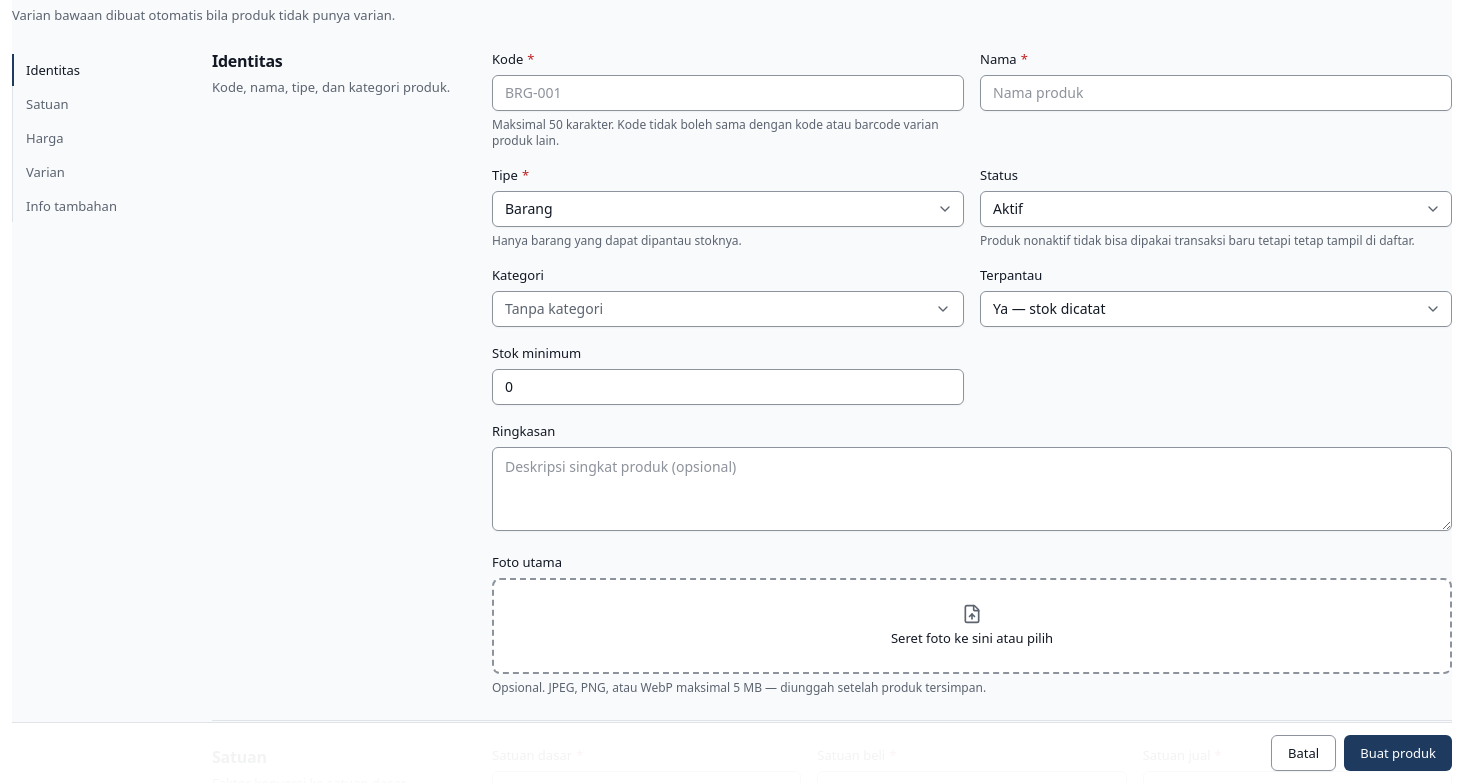
form tambah produk — inti › kode duplikat dari server: pesan tampil dan pengguna tetap di form dengan isian utuh
The image size is (1464, 783).
Type "GULA-1" into the field labelled "Kode *". click: (728, 92)
box: [492,74,964,110]
Type "Gula Pasir" into the field labelled "Nama *". click: (1216, 92)
box: [980,74,1452,110]
(page scrolled)
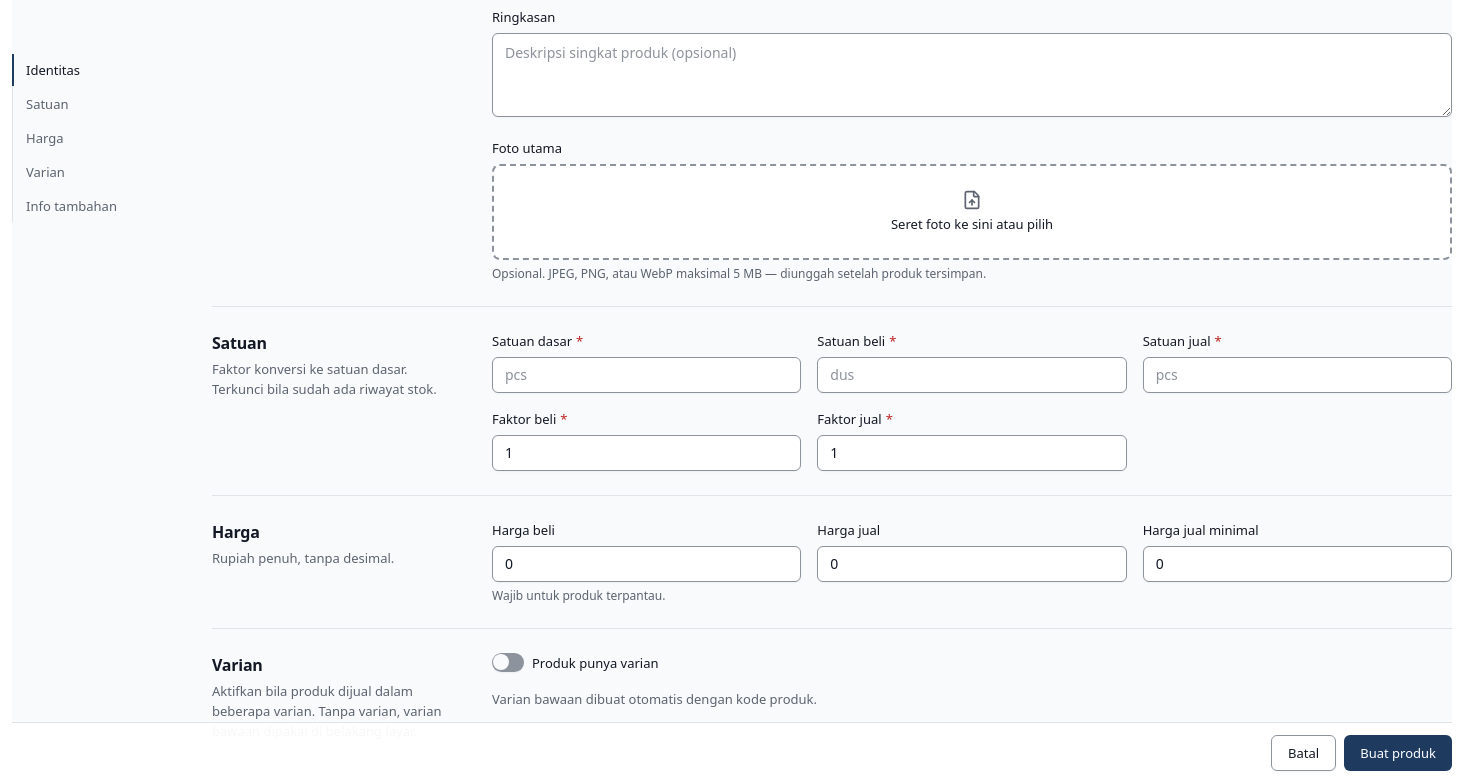
Type "kg" into the field labelled "Satuan dasar *". click: (647, 374)
box: [492,356,801,392]
Type "karung" into the field labelled "Satuan beli *". click: (972, 374)
box: [817,356,1127,392]
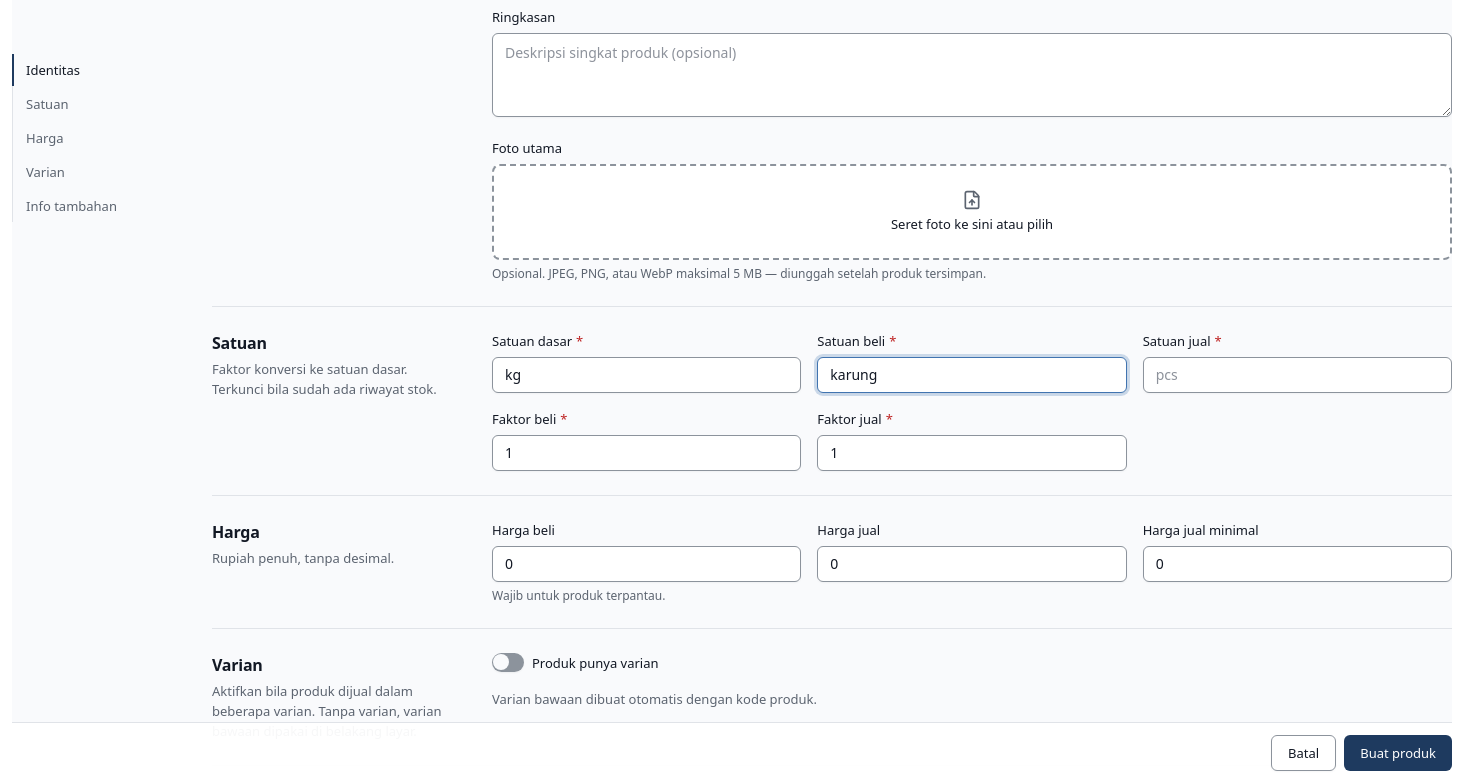
Type "kg" into the field labelled "Satuan jual *". click: (1297, 374)
box: [1143,356,1452,392]
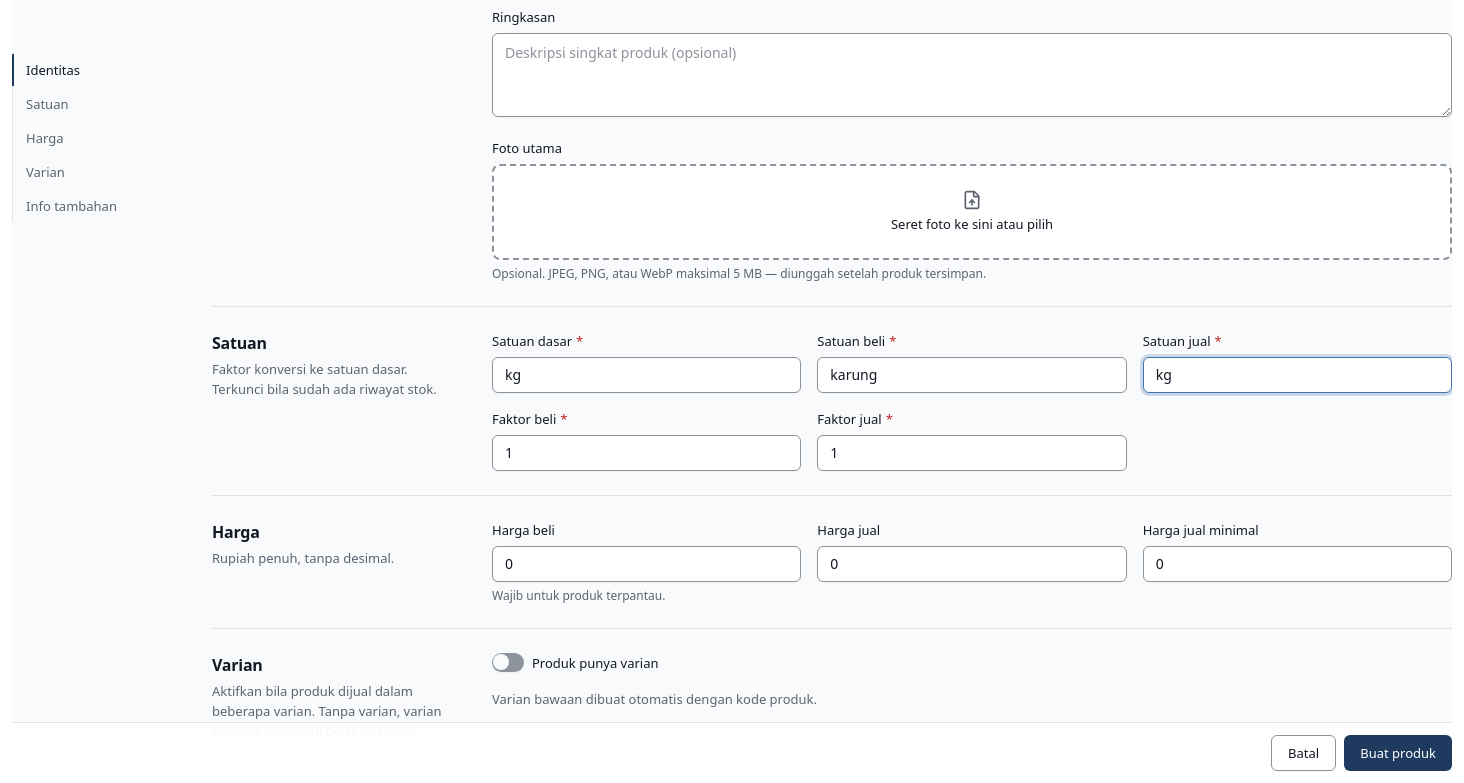
Replace the text in the number field labelled "Harga beli" with "600000". click: (647, 564)
box: [492,546,801,582]
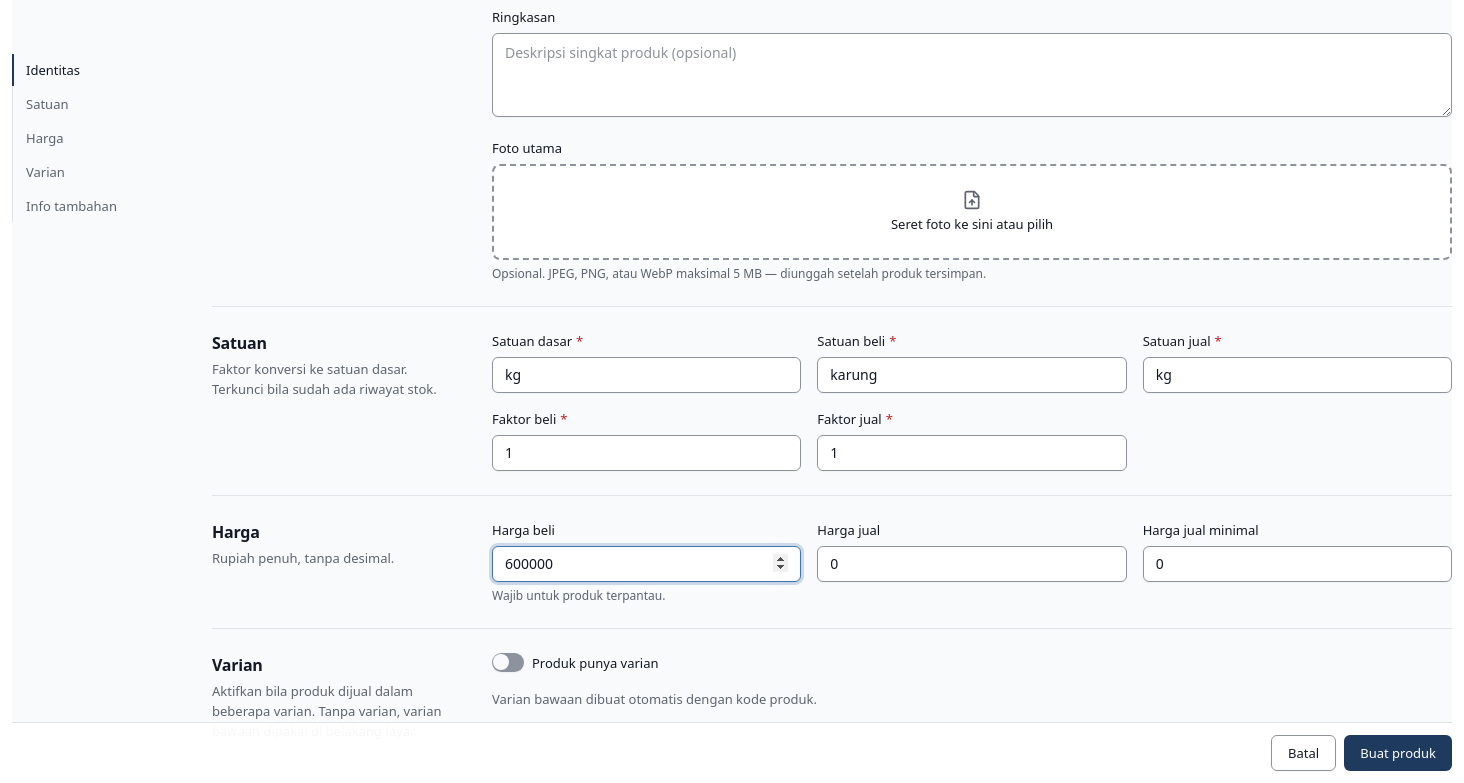
Replace the text in the number field labelled "Harga jual" with "15000". click: (972, 564)
box: [817,546,1127,582]
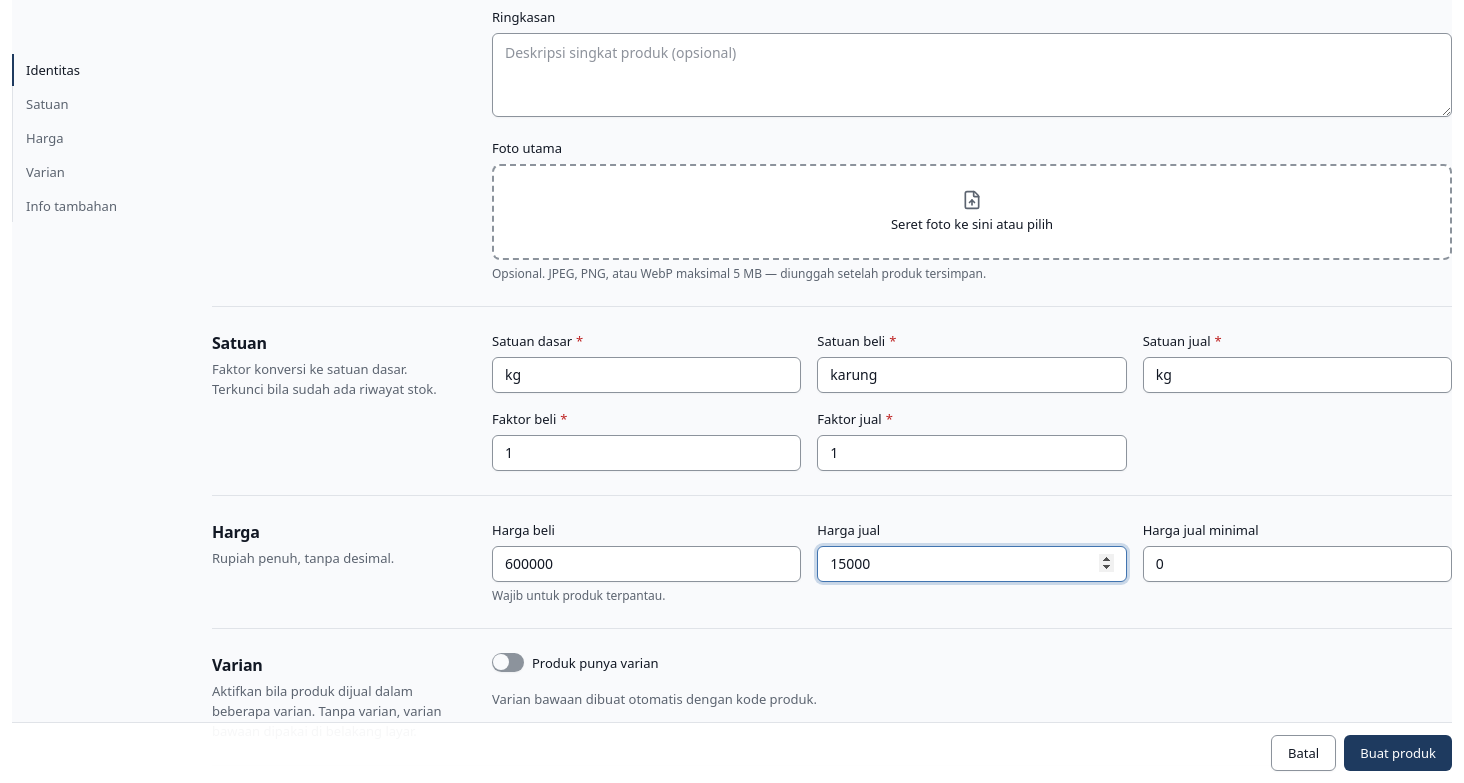
Click the button "Buat produk". click: (1398, 753)
box: [1344,735,1452,771]
(page scrolled)
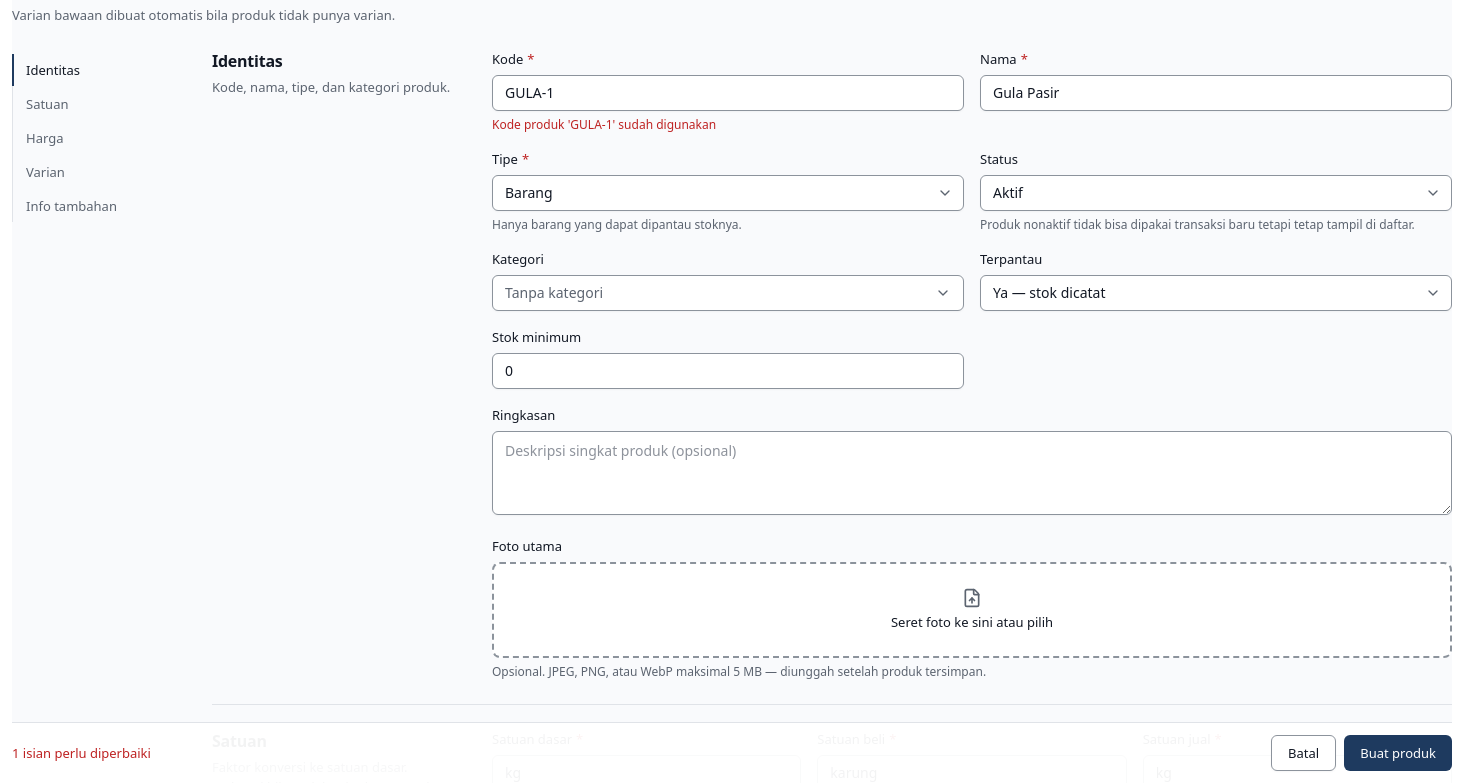
Result: the text "Kode produk 'GULA-1' sudah digunakan" is shown at [492,116,716,132]
